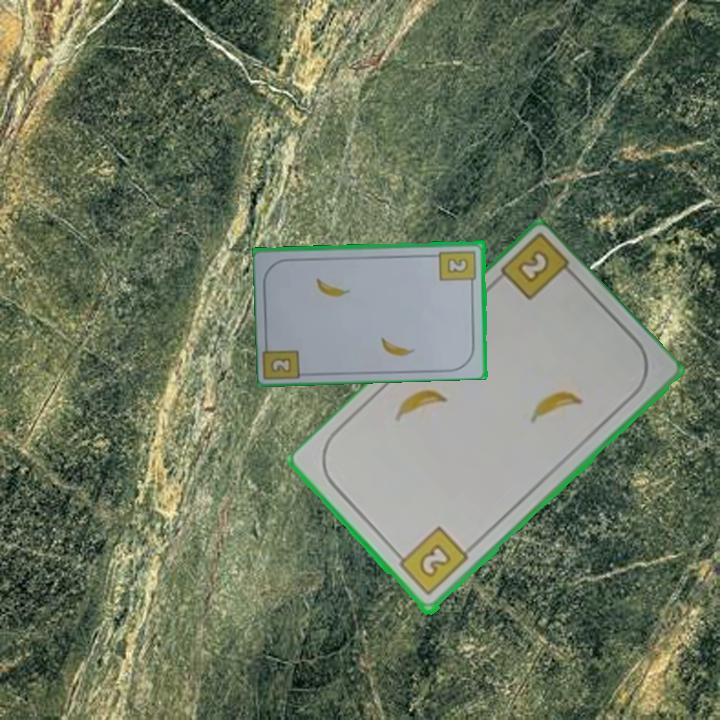2b: (391, 523, 471, 599), (437, 247, 479, 289), (513, 246, 553, 287), (269, 354, 294, 375)
